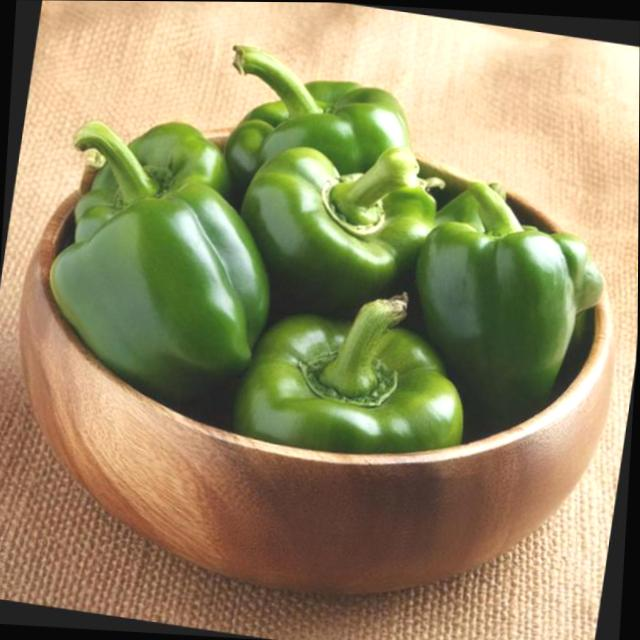Capsicum: (43, 168, 280, 385), (408, 177, 603, 438), (235, 285, 468, 457), (240, 135, 442, 324), (223, 47, 416, 200), (68, 110, 229, 255), (544, 228, 606, 319)
